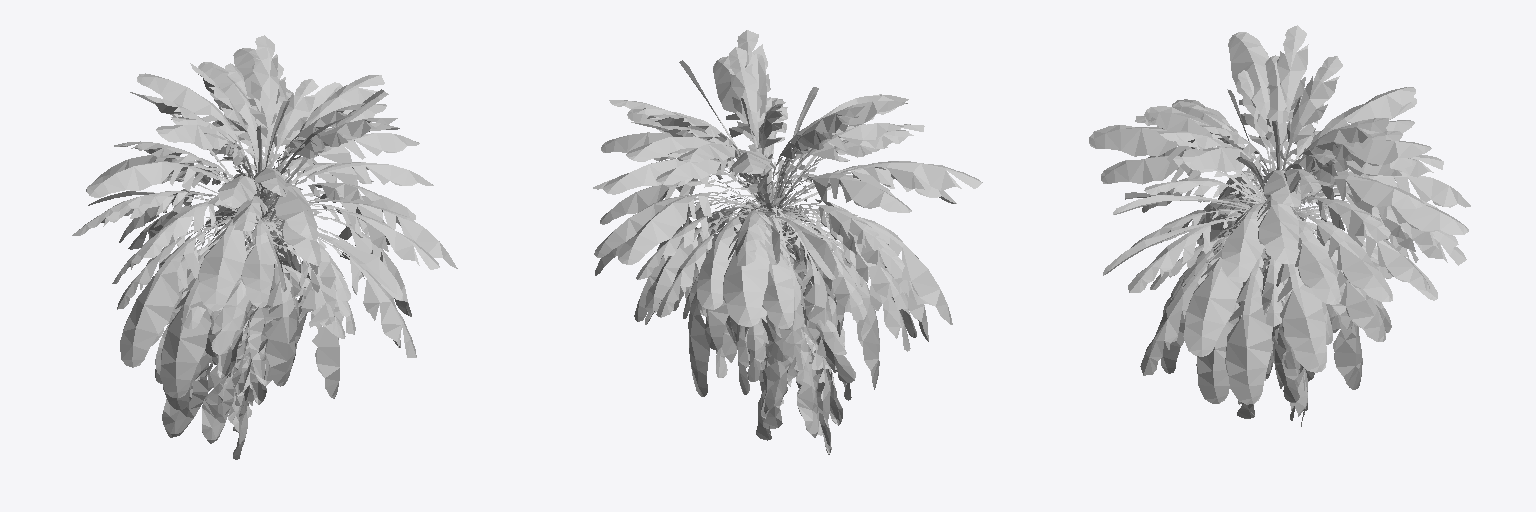
Rendered from leaf2.obj.
3 renders of one model, left to right at view 1: azimuth 30°, elevation 25°; view 2: azimuth 150°, elevation 25°; view 3: azimuth 270°, elevation 25°, orthographic.
Visible parts, largest first — view 1: Palm_Tree_M_01_L.001; view 2: Palm_Tree_M_01_L.001; view 3: Palm_Tree_M_01_L.001.
Boxes of the visible parts, <box> form: Palm_Tree_M_01_L.001: <box>72,35,457,459</box>; Palm_Tree_M_01_L.001: <box>593,30,982,454</box>; Palm_Tree_M_01_L.001: <box>1089,25,1470,426</box>.
Size of the model in its own units: 7.69 by 8.13 by 7.76.